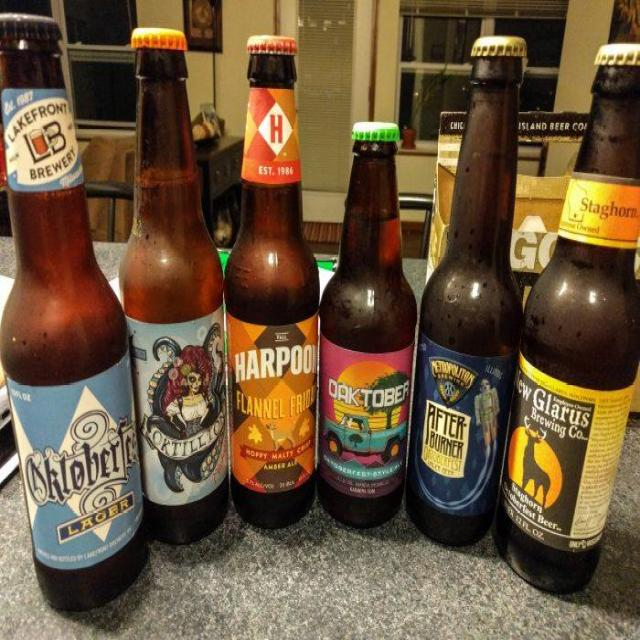glass bottle: (0, 12, 149, 613), (496, 43, 640, 597), (406, 35, 527, 548), (115, 27, 230, 547), (227, 33, 317, 528), (318, 121, 418, 529)
